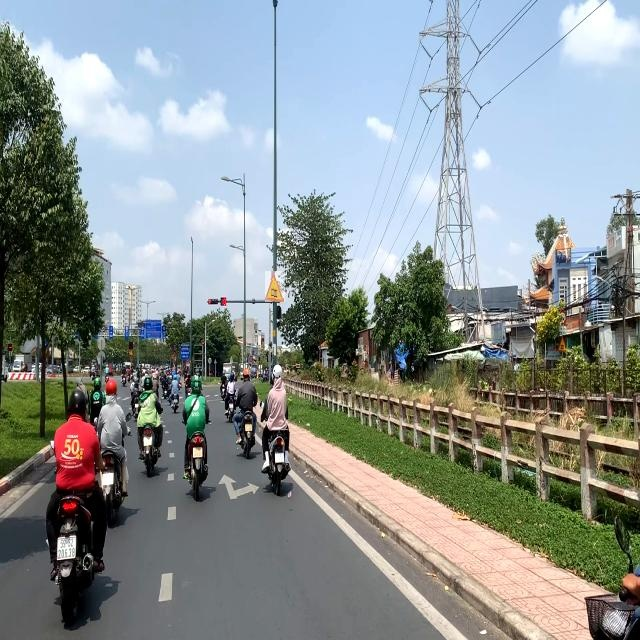bien_cam: (266, 271, 286, 302), (8, 344, 12, 351), (104, 325, 108, 332), (129, 342, 133, 349), (162, 326, 166, 331), (141, 326, 144, 331), (126, 326, 128, 331)
